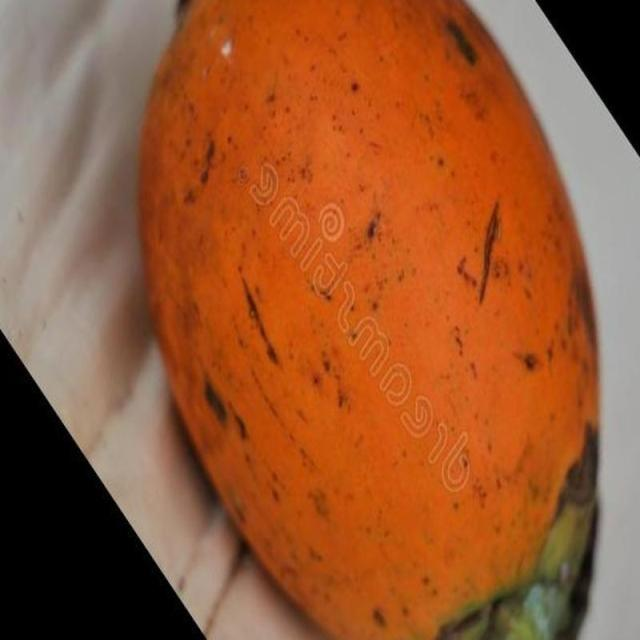good: (137, 0, 601, 639)
